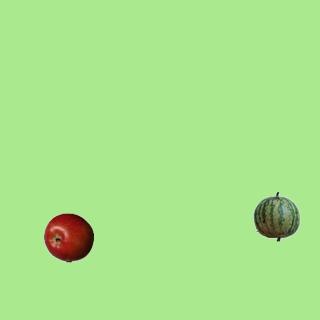Apple Braeburn: (43, 212, 93, 262)
Watermelon: (251, 191, 301, 241)
